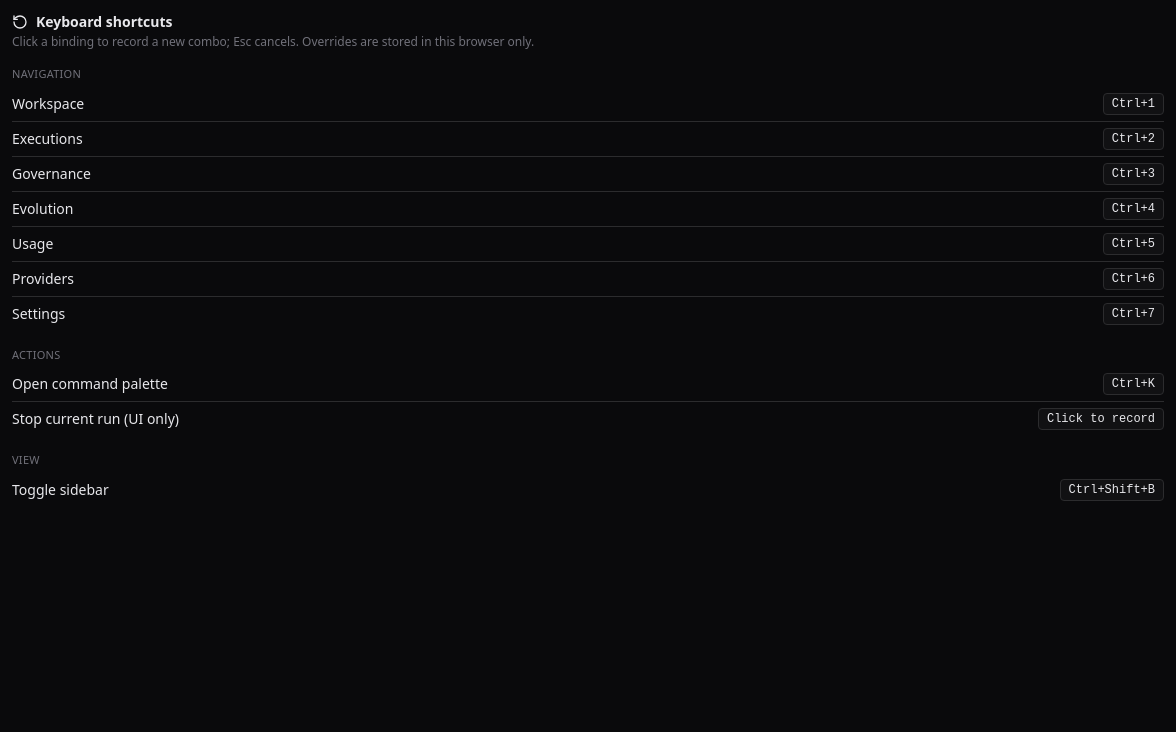
ShortcutsSection › warns when the recording conflicts with another command
The image size is (1176, 732).
Click the button with test id "shortcuts-record" showing "Ctrl+1" at (1133, 104), box [1103,92,1164,114]
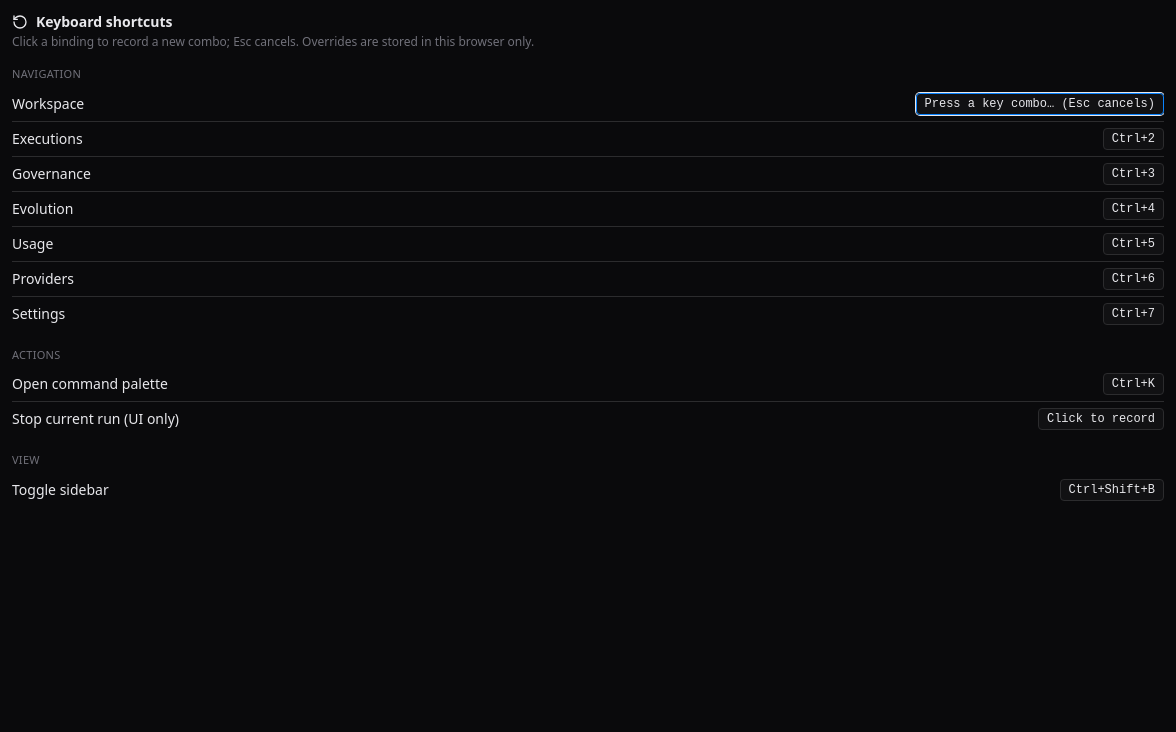
Press 2
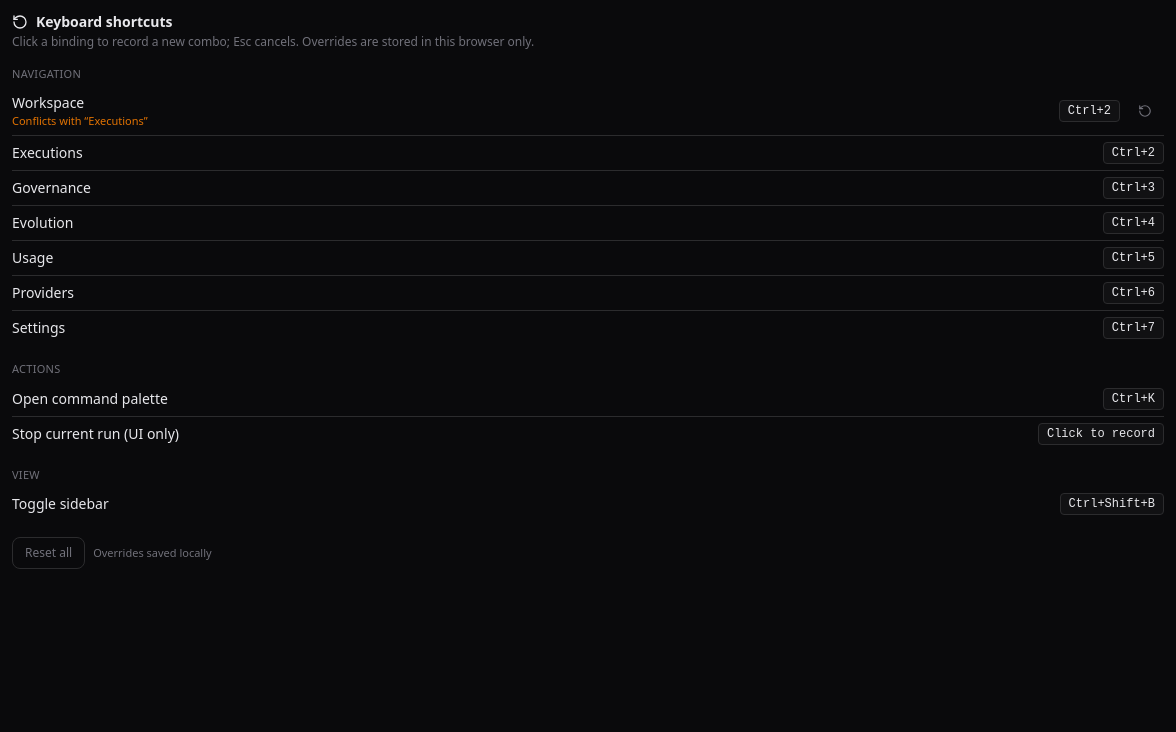
Now the message with test id "shortcuts-row-notice" shows "Conflicts with", box [12,112,148,128]
